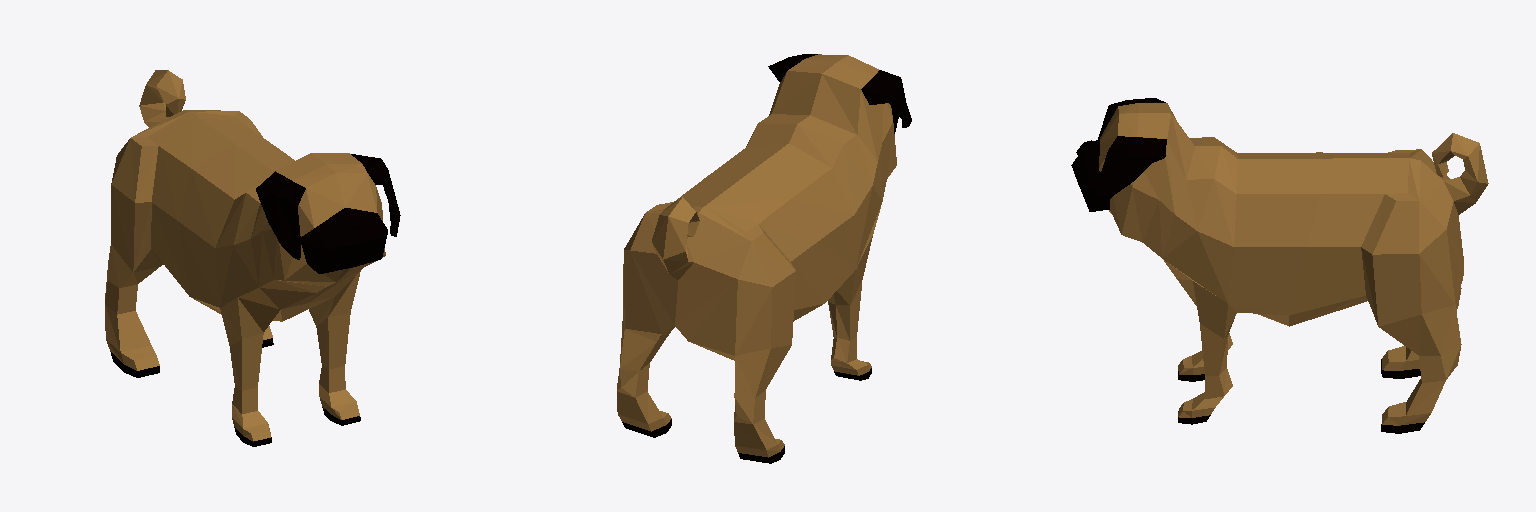
Rendered from pug.obj.
The picture shows the model from 3 angles: view 1: azimuth 30°, elevation 25°; view 2: azimuth 150°, elevation 25°; view 3: azimuth 270°, elevation 25°; orthographic projection.
Parts seen in each view (by area): view 1: Pug_Cylinder.001; view 2: Pug_Cylinder.001; view 3: Pug_Cylinder.001.
Part boxes in pixels (bbox=[...]): Pug_Cylinder.001: bbox=[105, 70, 400, 446]; Pug_Cylinder.001: bbox=[617, 54, 911, 463]; Pug_Cylinder.001: bbox=[1071, 98, 1488, 433].
Bounding box in the file's own units: 1.45 × 2.65 × 3.5.